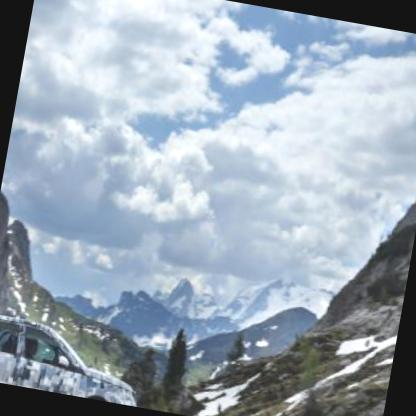car: (0, 308, 149, 406)
